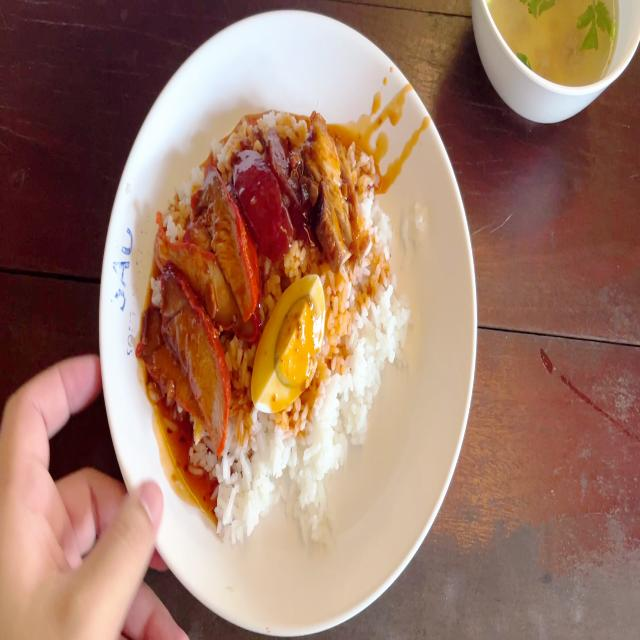boiled_egg: (260, 278, 324, 410)
chainese_sausage: (236, 125, 306, 254)
crispy_pork: (308, 119, 348, 267)
red_pork: (157, 181, 250, 445)
red_pork_and_crispy_pork: (164, 115, 408, 533)
rice: (328, 193, 398, 419), (220, 412, 340, 532)
